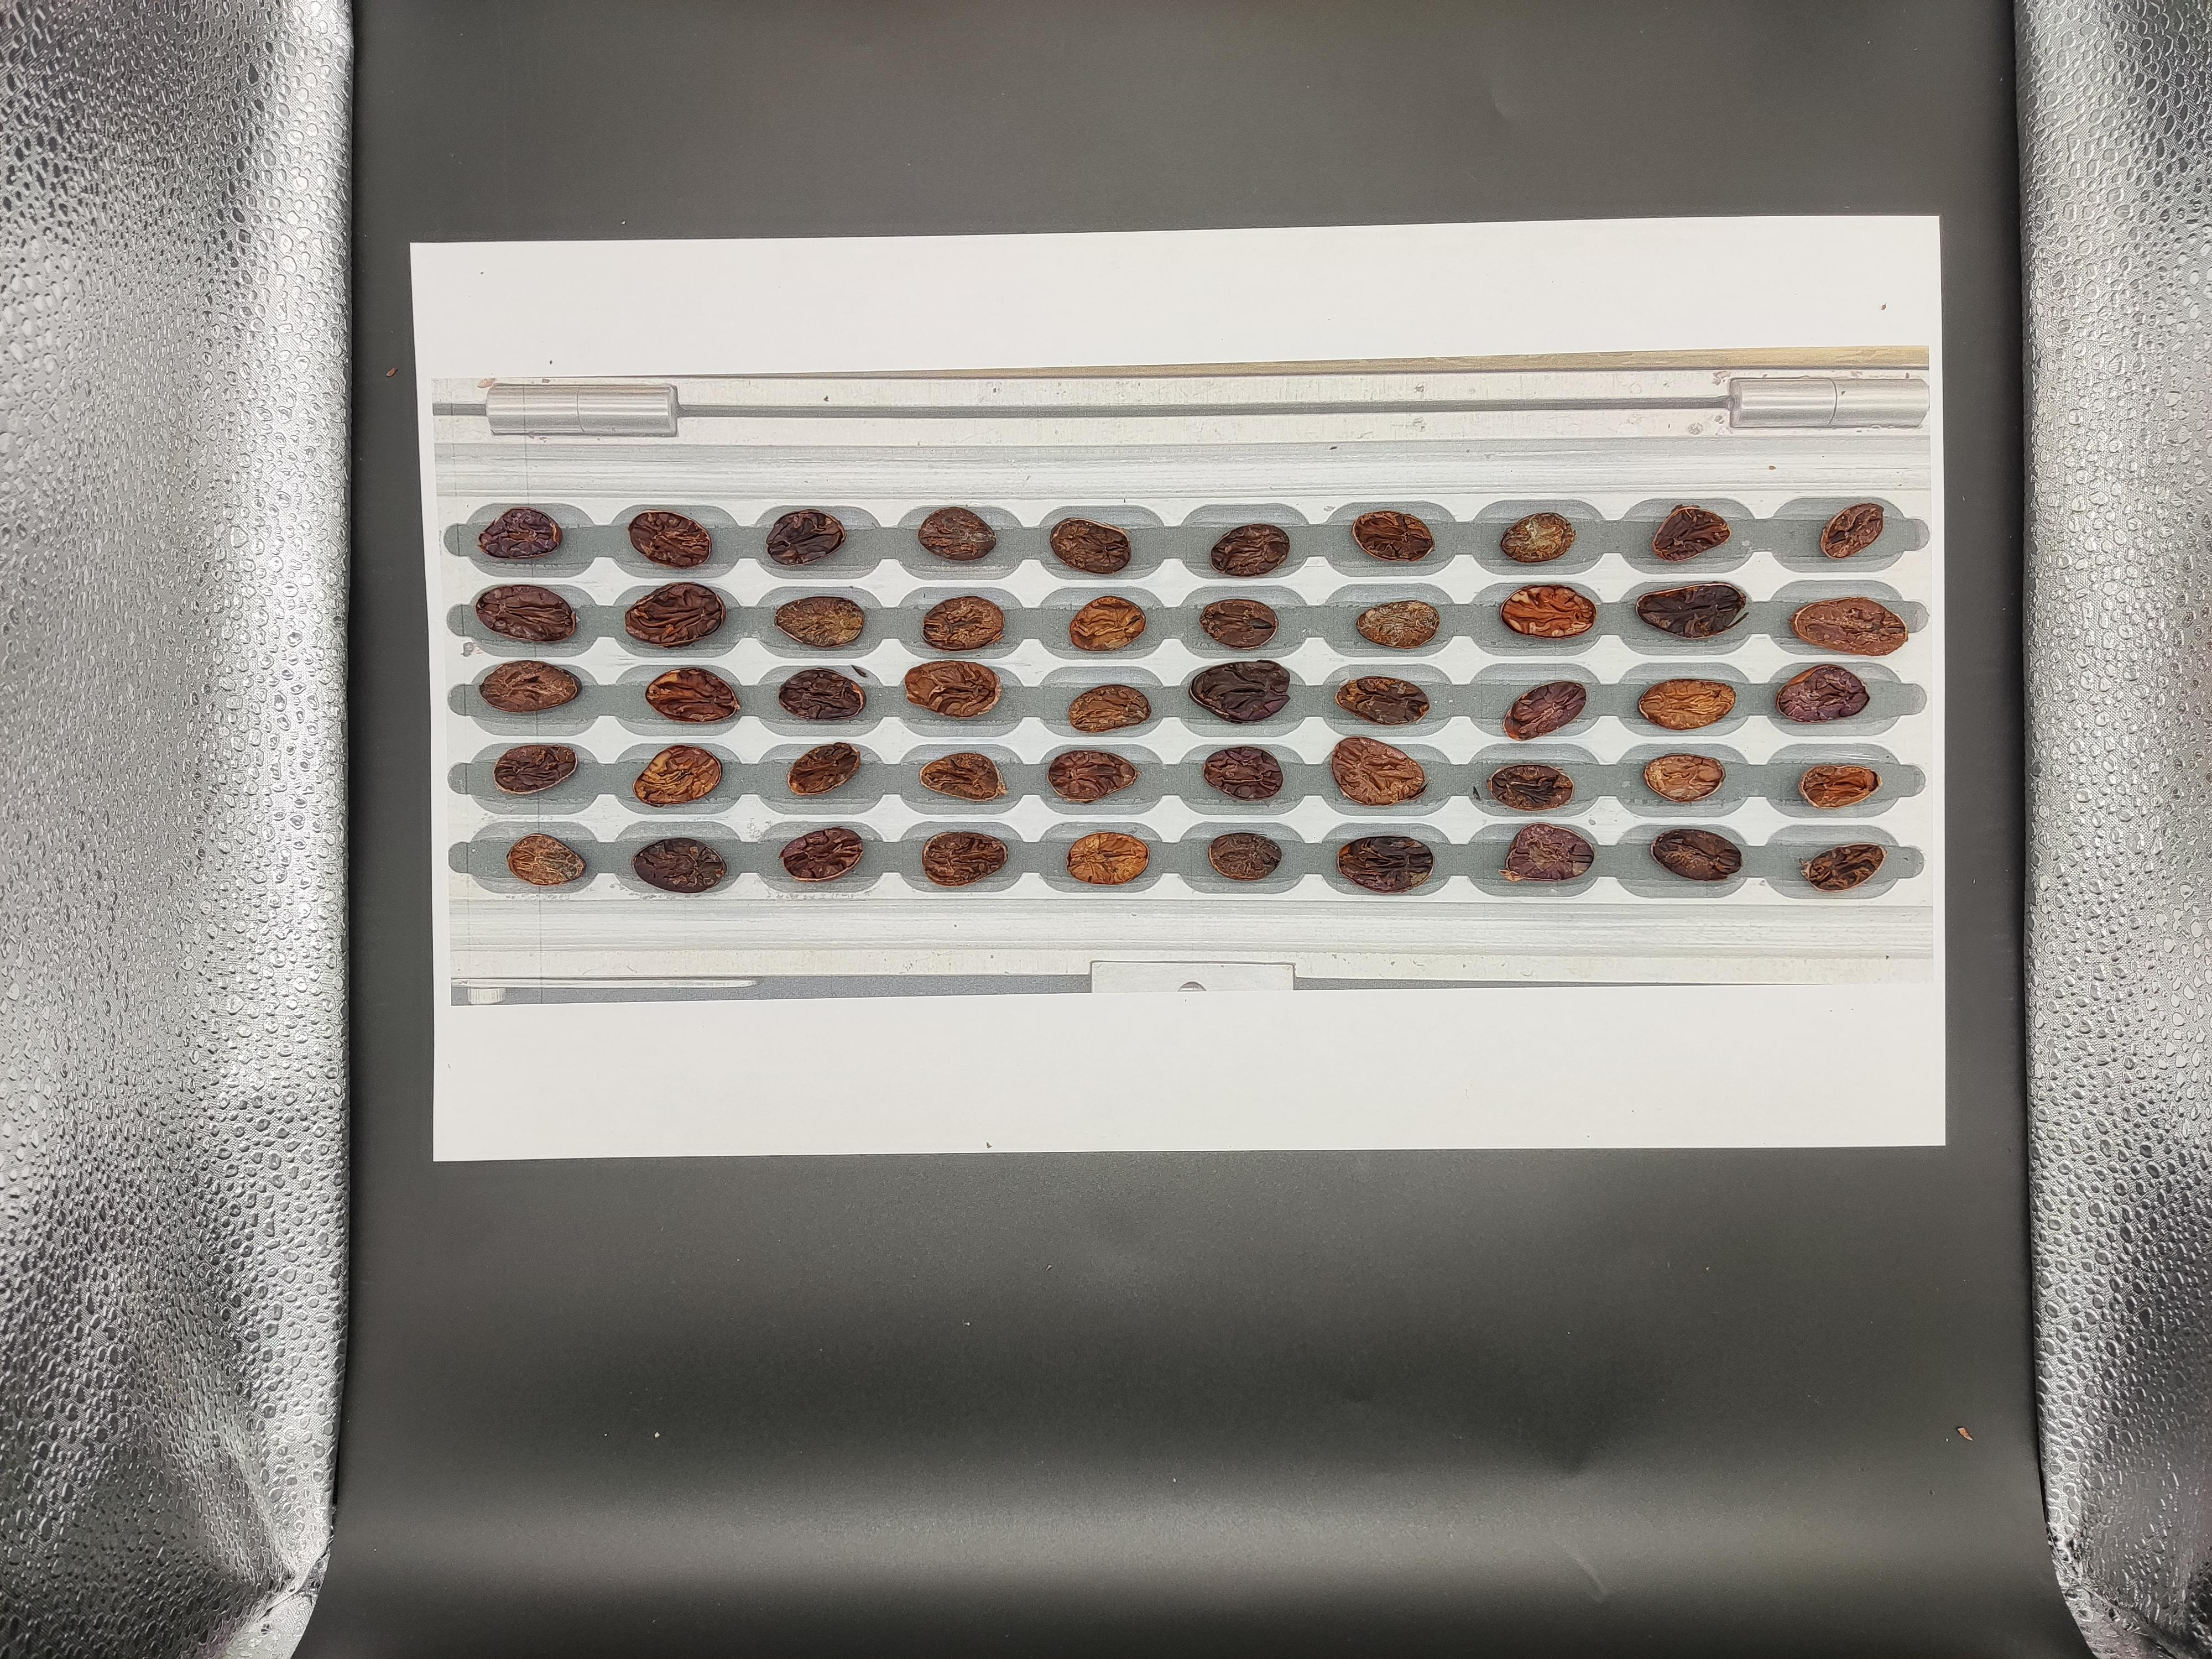Brown - G1: (317, 1105, 374, 1143), (327, 1150, 381, 1183), (766, 1107, 820, 1140)
Brown - G2: (678, 1185, 735, 1227), (320, 1190, 373, 1227), (462, 1147, 516, 1182), (470, 1232, 521, 1267), (465, 1192, 517, 1225), (319, 1068, 366, 1105), (531, 1192, 583, 1223), (690, 1068, 737, 1101), (545, 1112, 589, 1147), (399, 1188, 442, 1222)
Brown - G3: (244, 1147, 301, 1178), (470, 1112, 517, 1147), (535, 1073, 582, 1107), (611, 1114, 657, 1147), (543, 1234, 590, 1265), (545, 1159, 592, 1188), (836, 1154, 850, 1188), (838, 1192, 850, 1223)
Insect-damaged: (392, 1112, 448, 1147)
Mouldy: (690, 1112, 740, 1147), (467, 1066, 512, 1100), (765, 1070, 810, 1103), (258, 1236, 301, 1269), (617, 1232, 658, 1265)
Partly Purple - G1: (606, 1147, 665, 1185), (395, 1229, 448, 1267)
Partly Purple - G2: (242, 1107, 300, 1143), (679, 1237, 738, 1270), (397, 1150, 446, 1183), (611, 1190, 660, 1223), (759, 1197, 810, 1229), (834, 1105, 850, 1141)
Partly Purple - G3: (766, 1157, 817, 1195)
Total Purple - G2: (242, 1065, 289, 1101)
Total Purple - G3: (766, 1230, 819, 1267)
Very Dark Brown - G2: (617, 1075, 664, 1110), (251, 1188, 298, 1222), (390, 1070, 435, 1103)
Very Dark Brown - G3: (320, 1236, 376, 1272), (681, 1154, 737, 1185)
